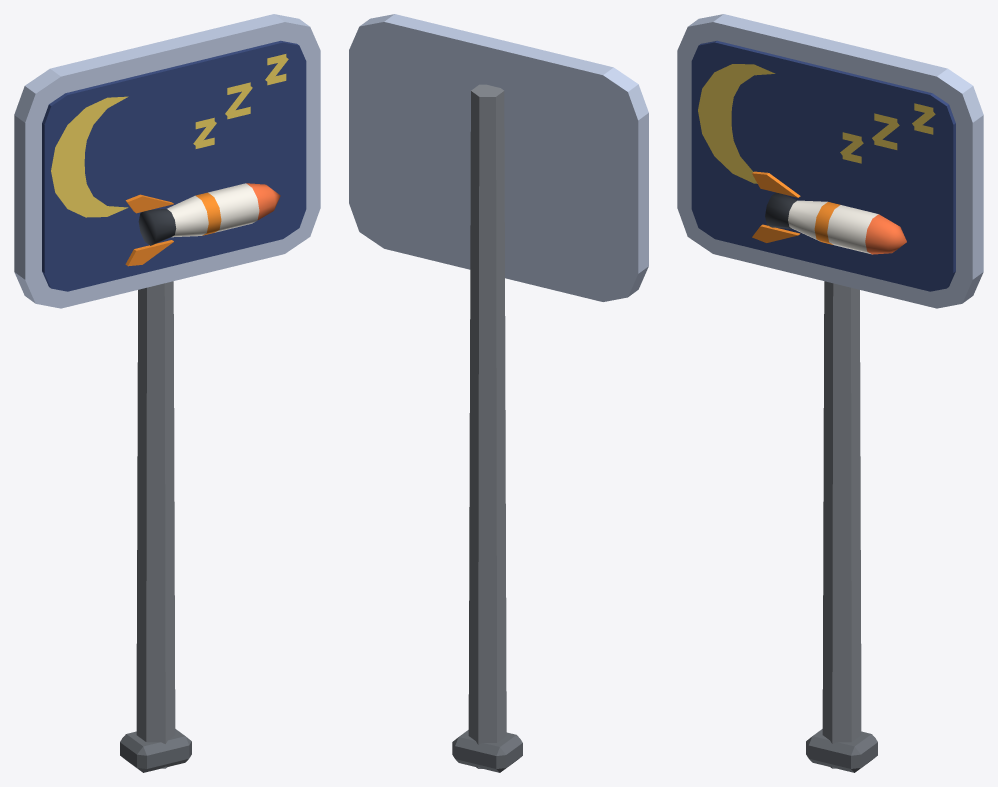
The model's file is sign-no-rocket.glb.
3 views of the same model, side by side, from view 1: azimuth 30°, elevation 25°; view 2: azimuth 150°, elevation 25°; view 3: azimuth 330°, elevation 25° (orthographic). The views are drawn at different scales.
Visible parts, largest first — view 1: sign-no-rocket; view 2: sign-no-rocket; view 3: sign-no-rocket.
Part boxes in pixels (box(x1,y1,x2,y2)): sign-no-rocket: box(14, 14, 320, 772); sign-no-rocket: box(349, 14, 648, 772); sign-no-rocket: box(677, 14, 983, 772).
Bounding box in the file's own units: 1.4 × 3.28 × 0.43.
